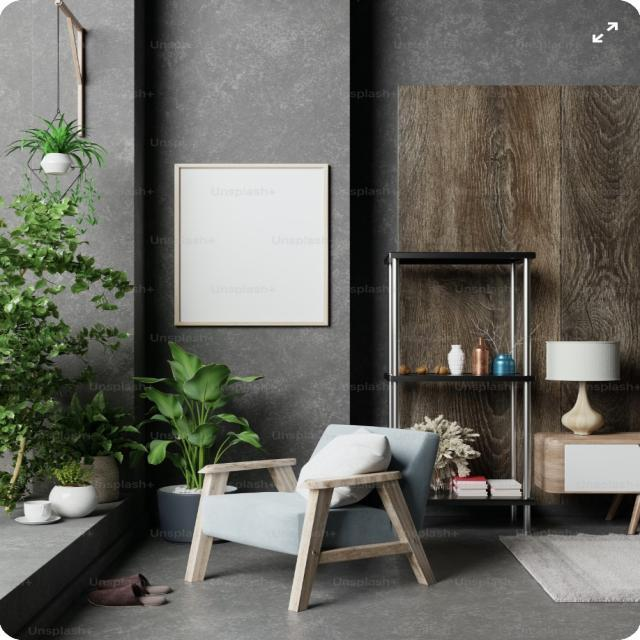lamp: (540, 330, 624, 436)
picture: (174, 160, 334, 332)
potted plant: (141, 348, 242, 546), (22, 110, 94, 182), (49, 455, 107, 518)
shelf: (383, 244, 539, 536)
slipper: (90, 566, 172, 610)
sofa: (199, 420, 453, 616)
